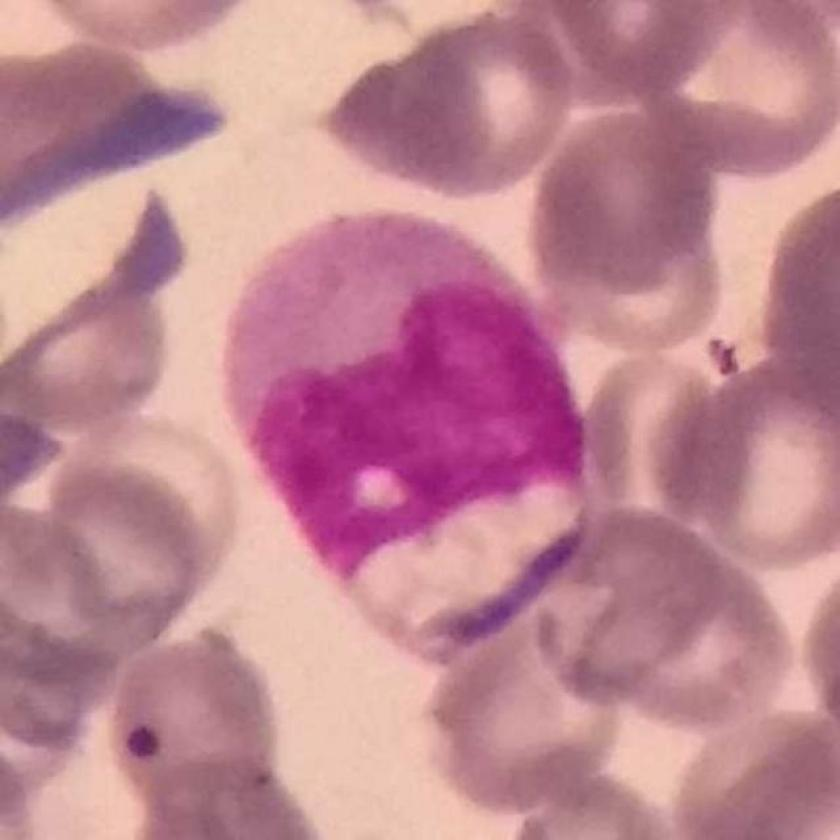monocyte: (226, 200, 600, 660)
